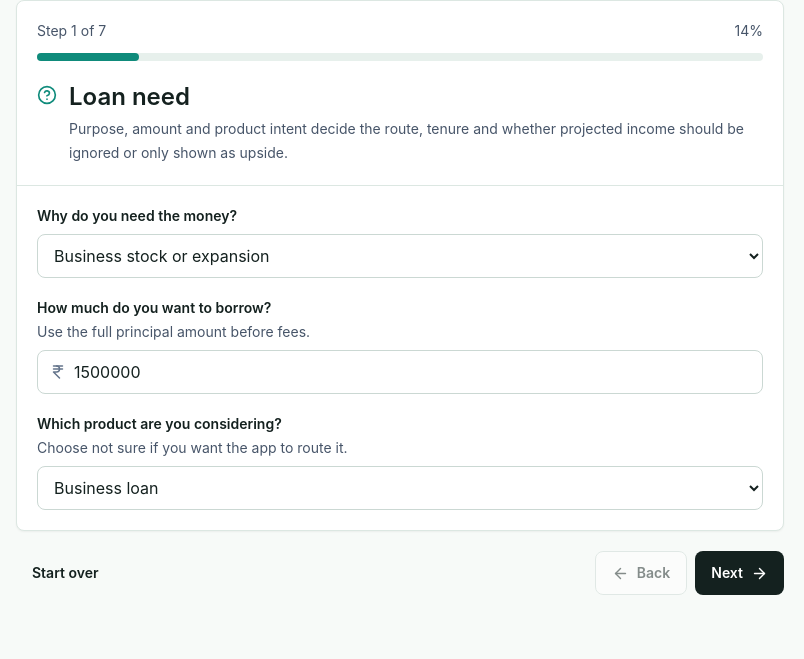
Test case: Questionnaire › renders the self-employed income branch from a Ravi-style fixture
Click the button "Next": (740, 573) [695,551,784,595]
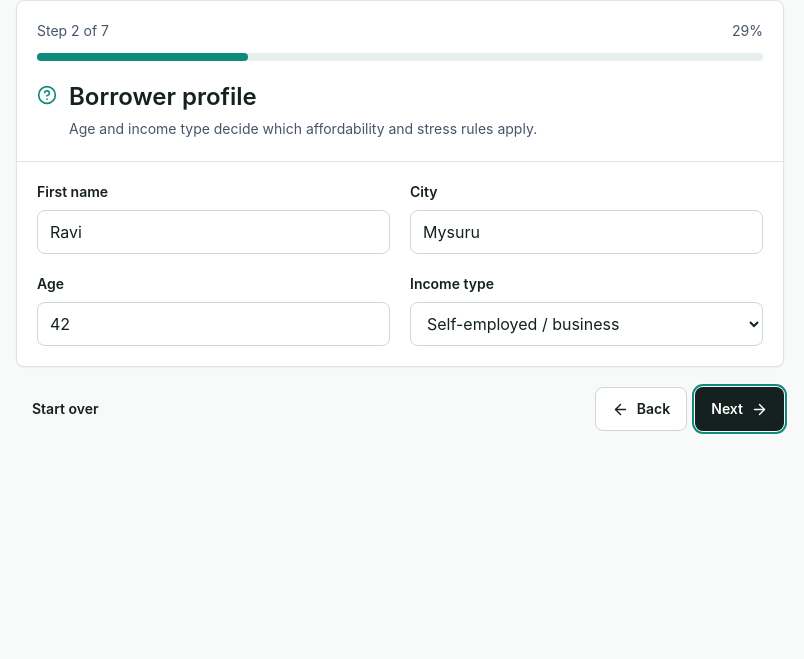
Click the button "Next": (740, 409) [695,387,784,431]
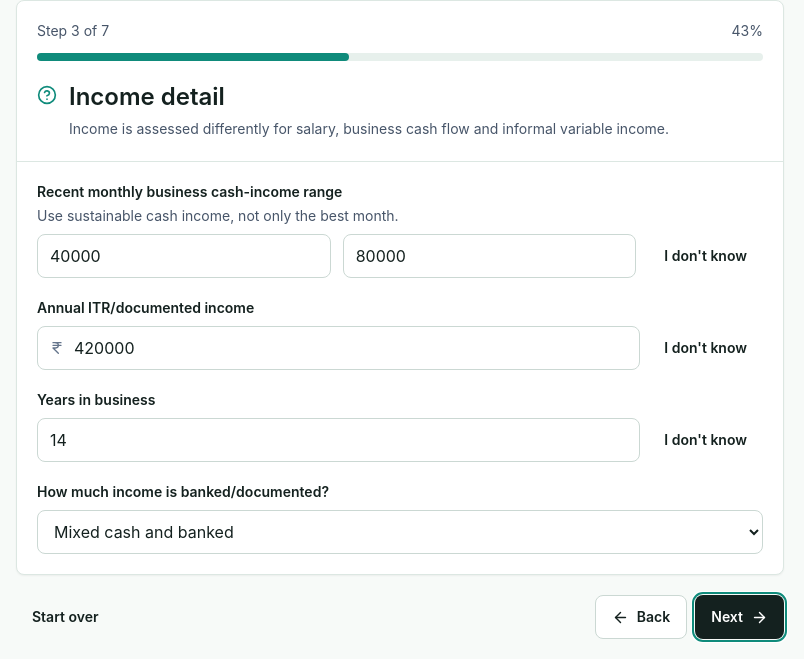
Now the number field labelled "Annual ITR/documented income" is shown, box [37,326,640,370]
